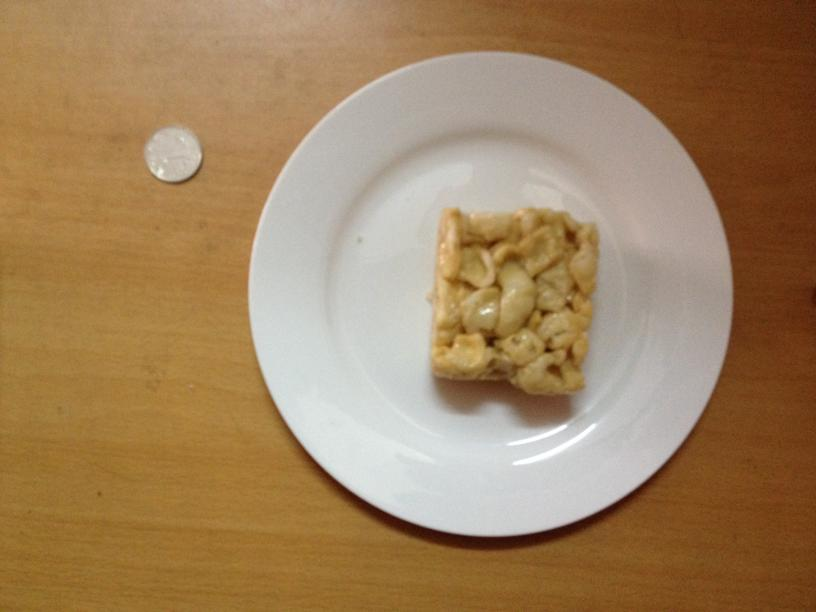coin: (144, 126, 202, 183)
sachima: (426, 207, 598, 397)
